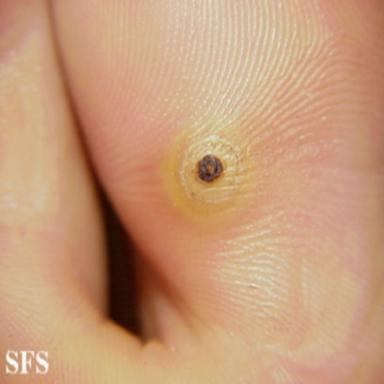Tungiasis: (178, 134, 244, 213)
